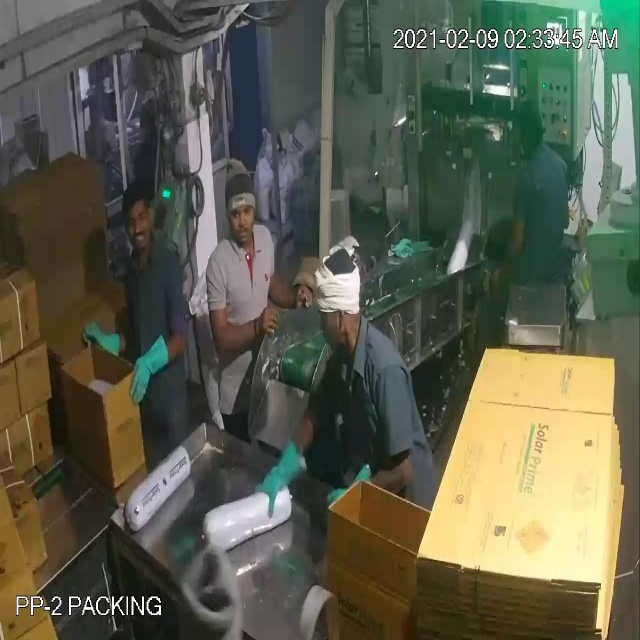Guantes: (248, 438, 312, 532), (124, 339, 174, 411), (80, 310, 128, 372)
Sin_guantes: (206, 287, 282, 359), (488, 206, 535, 304), (266, 255, 316, 324)
